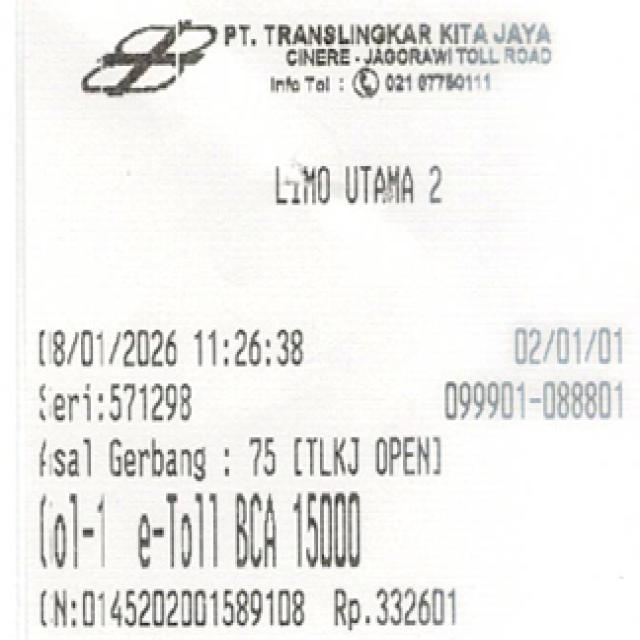date: (25, 322, 318, 370)
store: (213, 10, 566, 70)
total: (285, 486, 365, 577)
